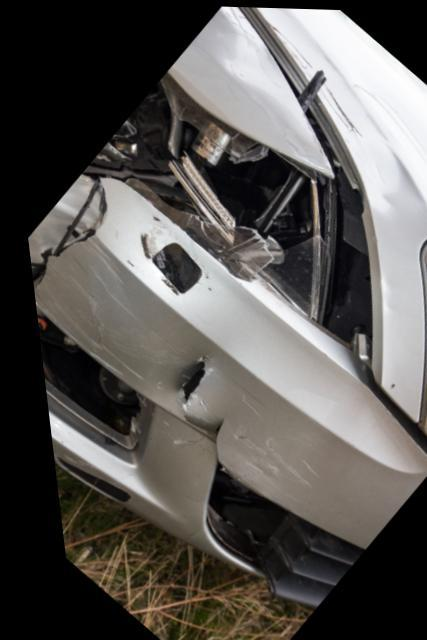crack: (172, 354, 199, 403)
dent: (225, 35, 308, 139), (364, 148, 415, 216)
lamp broken: (79, 72, 328, 317)
scratch: (29, 241, 176, 382), (217, 417, 308, 480)
